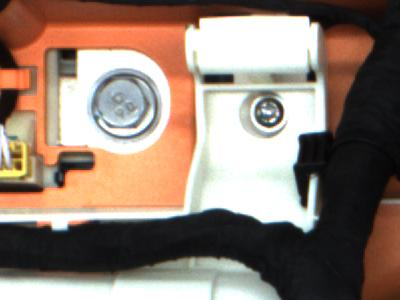nut_b: (78, 63, 160, 138)
screw_m: (247, 95, 291, 134)
